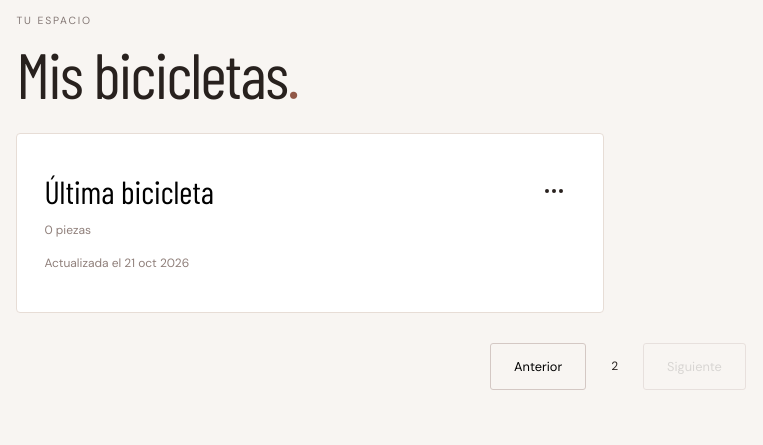
it: invalidates every cached page, removes deleted details and returns from an emptied last page
Click the button named "Opciones de Última bicicleta".
click(554, 191)  # box [532,169,576,213]
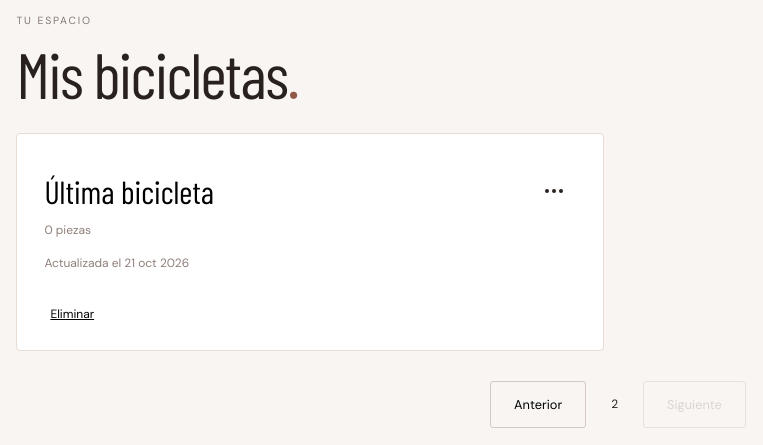
Click the button "Eliminar".
click(72, 314)  # box [44,305,100,323]
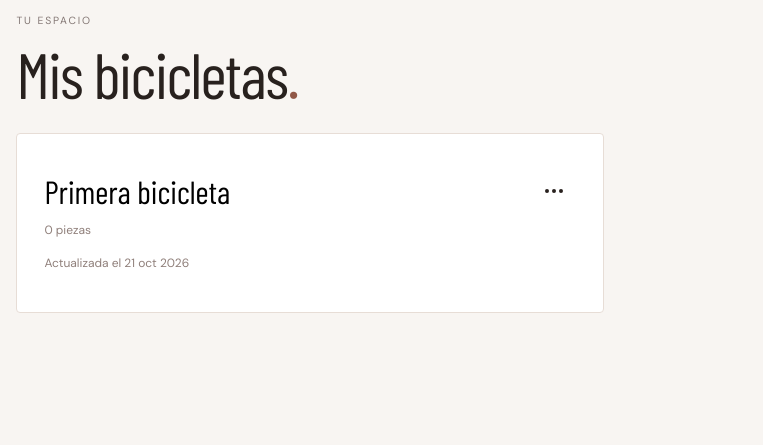
Check: the button "Primera bicicleta" is shown, box [44,169,230,212]
